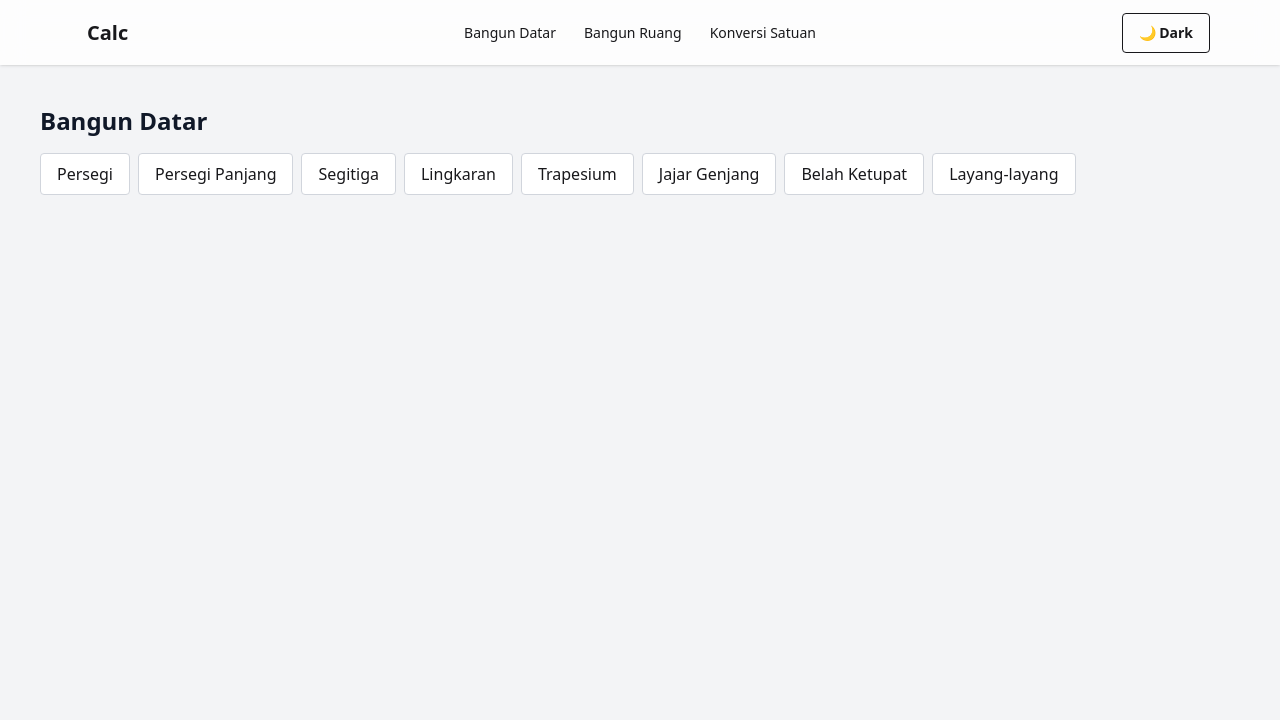
Scenario: App › calculates 2D area and resets
Click the button "Persegi".
click(85, 174)  # box left=40, top=153, right=130, bottom=195
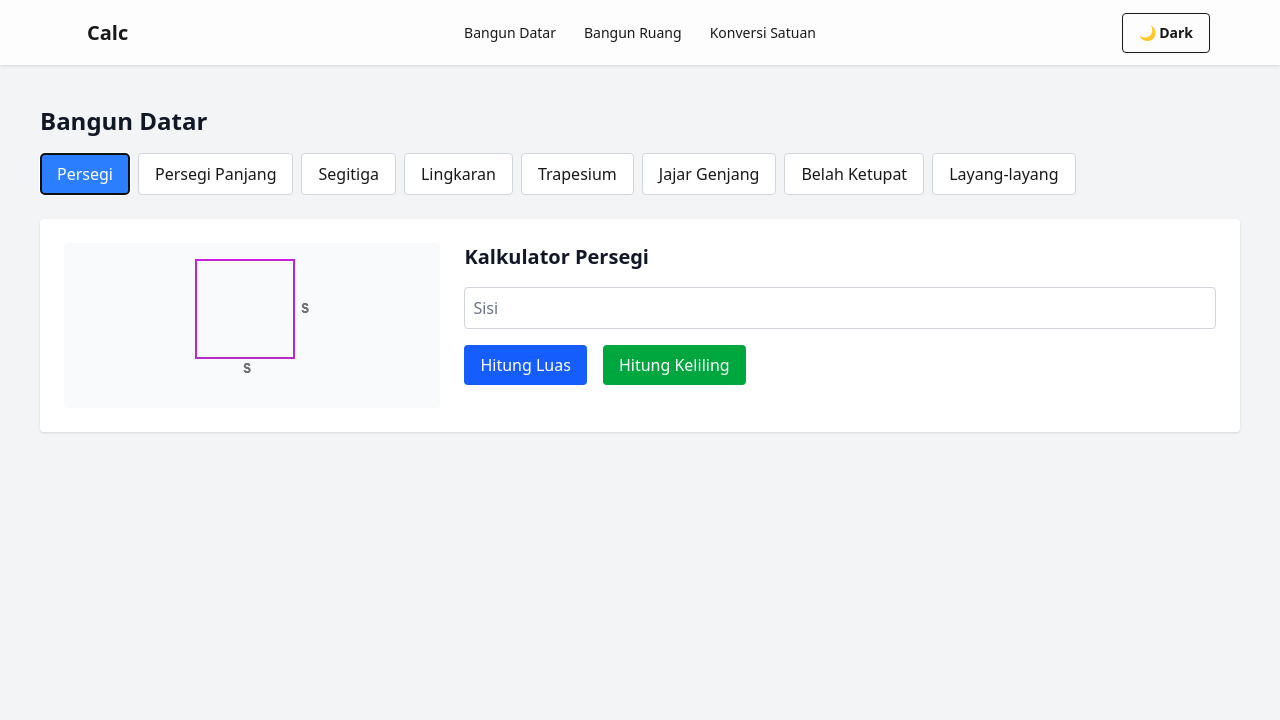
Type "5" into the number field.
click(840, 308); type("5")  # box left=464, top=287, right=1216, bottom=329
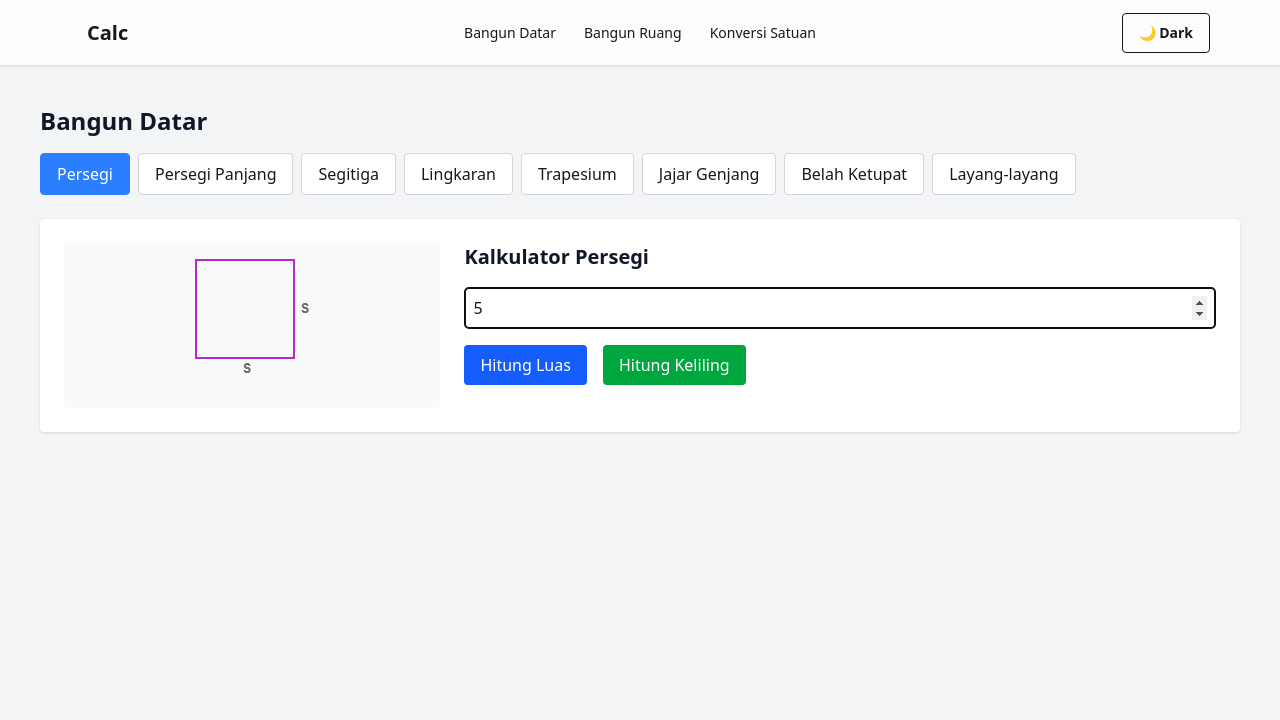
Click the button "Hitung Luas".
click(526, 365)  # box left=464, top=345, right=587, bottom=385
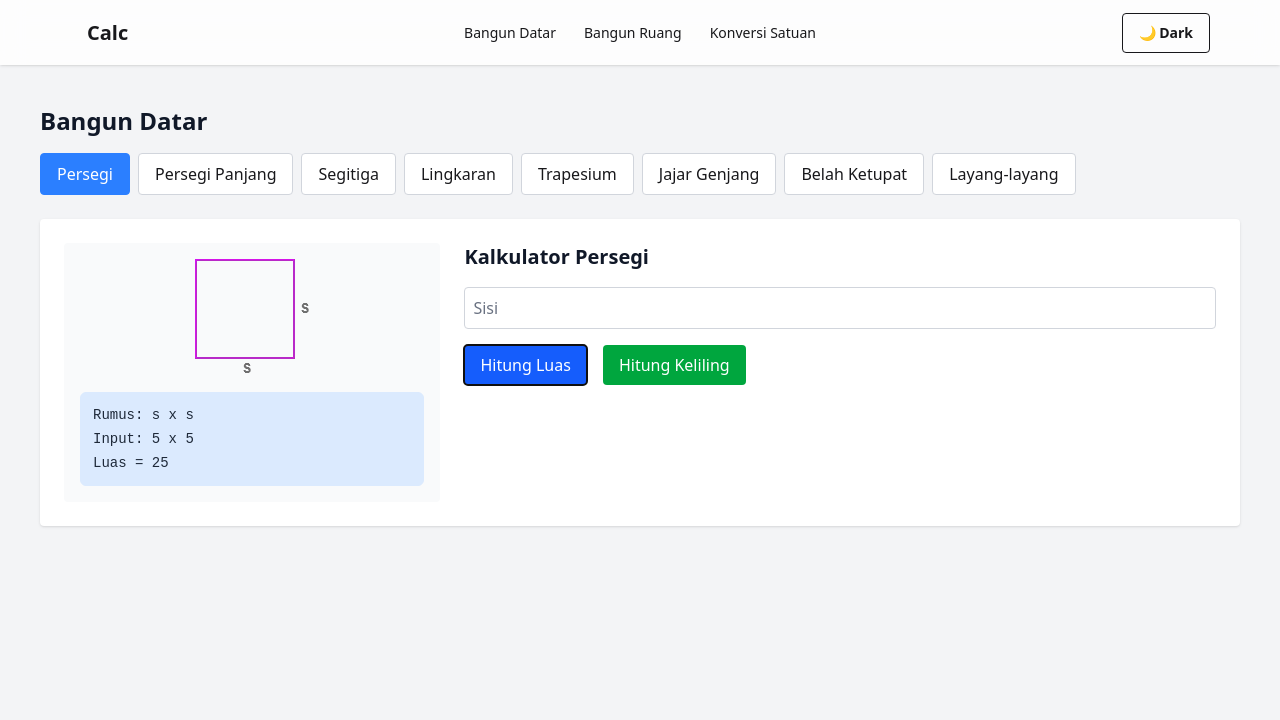
Expected: the text "Luas = 25" is shown, left=93, top=455, right=169, bottom=471
Expected: the number field is empty, left=464, top=287, right=1216, bottom=329
